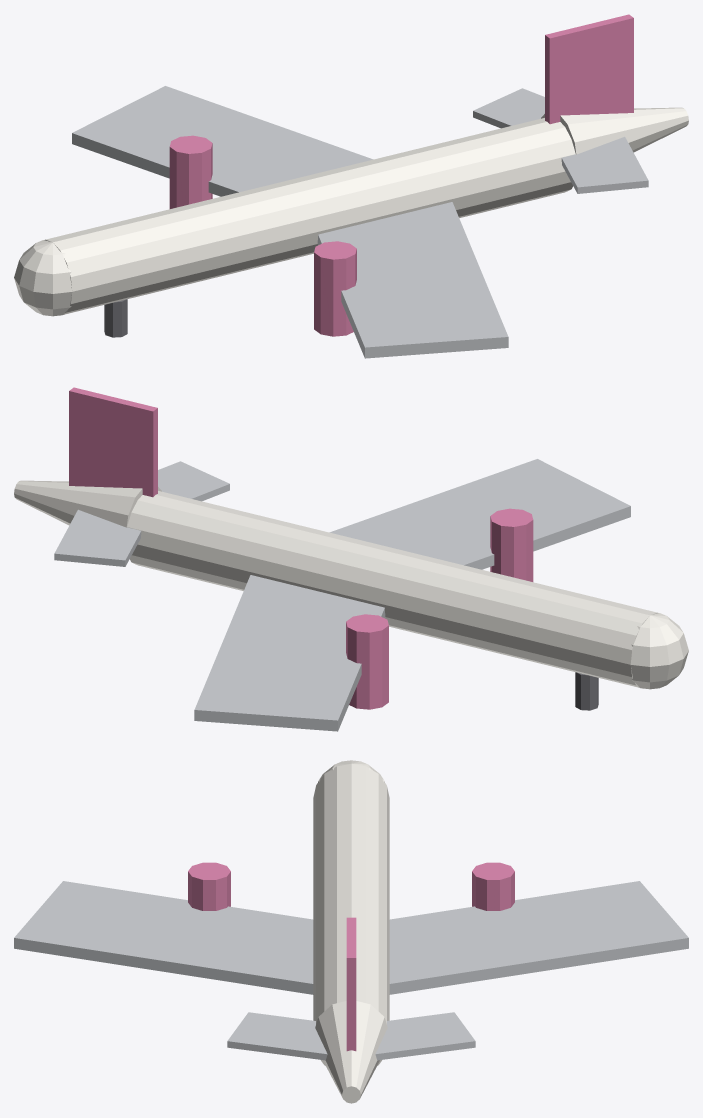
File: euroairport-flugzeug-5.glb
3 renders of one model, top to bottom at view 1: azimuth 30°, elevation 25°; view 2: azimuth 150°, elevation 25°; view 3: azimuth 270°, elevation 25°, orthographic.
Parts seen in each view (by area): view 1: building; view 2: building; view 3: building.
Part boxes in pixels (x1,y1,x2,y2): building: [14, 14, 688, 358]; building: [14, 387, 688, 731]; building: [14, 760, 688, 1103].
Size of the model in its own units: 31.6 by 8.66 by 28.24.
